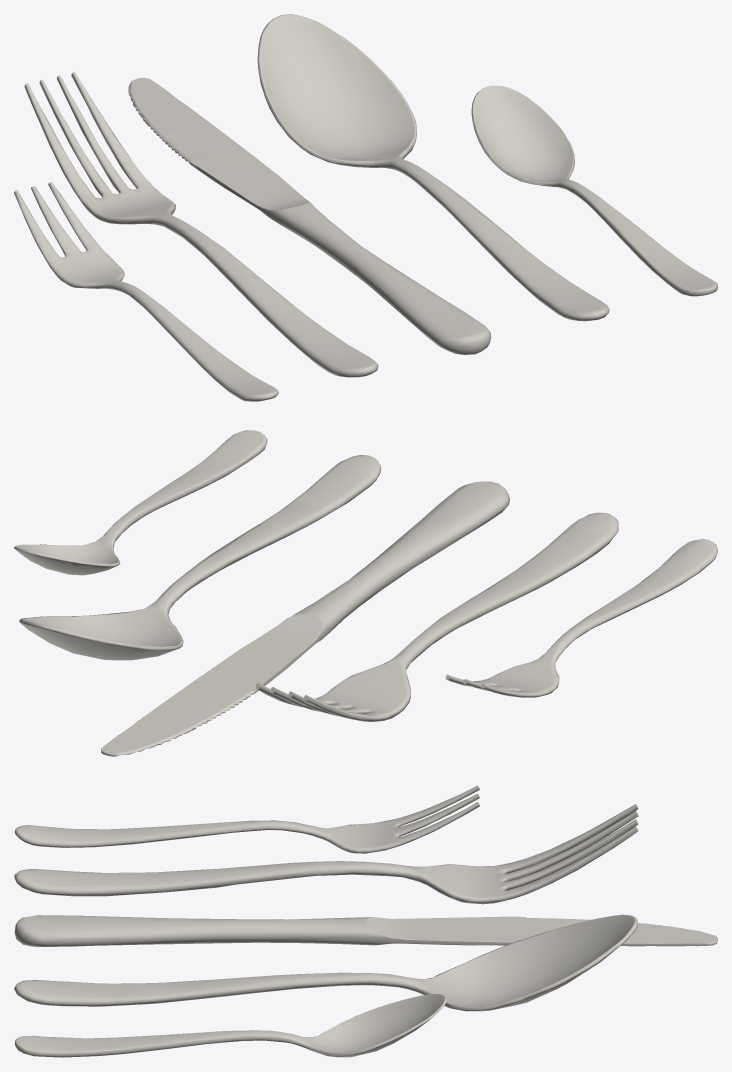
Rendered from MARTORP Couverts, 30 pièces, acier inoxydable.glb.
The picture shows the model from 3 angles, top to bottom: view 1: azimuth 30°, elevation 25°; view 2: azimuth 150°, elevation 25°; view 3: azimuth 270°, elevation 25°; orthographic projection. The views are drawn at different scales.
Parts seen in each view (by area): view 1: ASY_LPT04_30167507_S01_NV01, ASY_LPT03_30167507_S01_NV01, ASY_LPT02_30167507_S01_NV01, ASY_LPT05_30167507_S01_NV01, ASY_LPT01_30167507_S01_NV01; view 2: ASY_LPT03_30167507_S01_NV01, ASY_LPT04_30167507_S01_NV01, ASY_LPT02_30167507_S01_NV01, ASY_LPT01_30167507_S01_NV01, ASY_LPT05_30167507_S01_NV01; view 3: ASY_LPT04_30167507_S01_NV01, ASY_LPT03_30167507_S01_NV01, ASY_LPT02_30167507_S01_NV01, ASY_LPT05_30167507_S01_NV01, ASY_LPT01_30167507_S01_NV01.
Boxes of the visible parts, x1=… form: ASY_LPT04_30167507_S01_NV01: x1=257, y1=14, x2=609, y2=321; ASY_LPT03_30167507_S01_NV01: x1=128, y1=77, x2=491, y2=354; ASY_LPT02_30167507_S01_NV01: x1=24, y1=71, x2=378, y2=377; ASY_LPT05_30167507_S01_NV01: x1=471, y1=85, x2=717, y2=296; ASY_LPT01_30167507_S01_NV01: x1=14, y1=182, x2=278, y2=401; ASY_LPT03_30167507_S01_NV01: x1=101, y1=481, x2=509, y2=756; ASY_LPT04_30167507_S01_NV01: x1=19, y1=455, x2=381, y2=660; ASY_LPT02_30167507_S01_NV01: x1=255, y1=512, x2=618, y2=721; ASY_LPT01_30167507_S01_NV01: x1=445, y1=539, x2=717, y2=697; ASY_LPT05_30167507_S01_NV01: x1=14, y1=430, x2=267, y2=575; ASY_LPT04_30167507_S01_NV01: x1=14, y1=914, x2=637, y2=1011; ASY_LPT03_30167507_S01_NV01: x1=14, y1=915, x2=717, y2=946; ASY_LPT02_30167507_S01_NV01: x1=14, y1=804, x2=638, y2=904; ASY_LPT05_30167507_S01_NV01: x1=15, y1=994, x2=446, y2=1057; ASY_LPT01_30167507_S01_NV01: x1=14, y1=785, x2=479, y2=853.
Bounding box in the file's own units: 0.1794 × 0.027 × 0.2201.
Materials: 5 (5 with a texture image).
